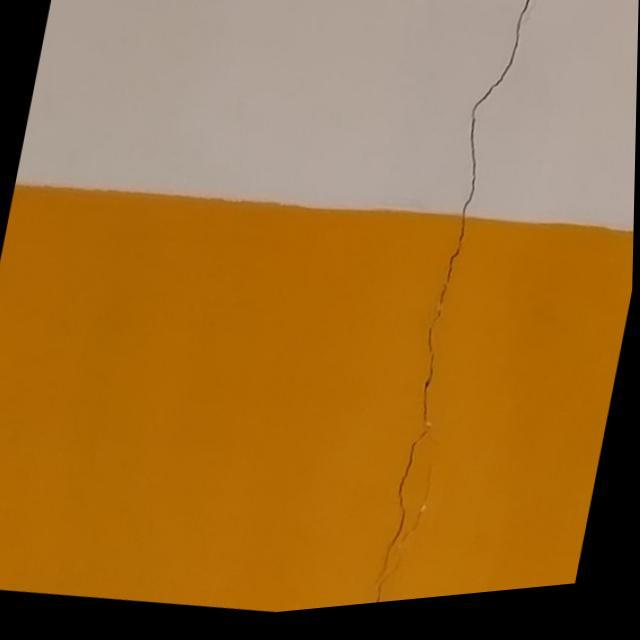Crack: (371, 3, 525, 585)
